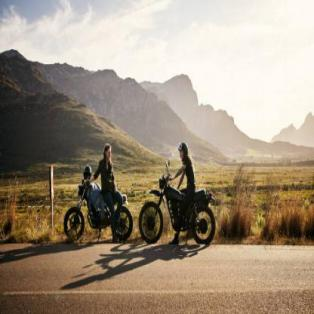Motocicleta: (137, 153, 223, 259), (64, 166, 135, 243)
